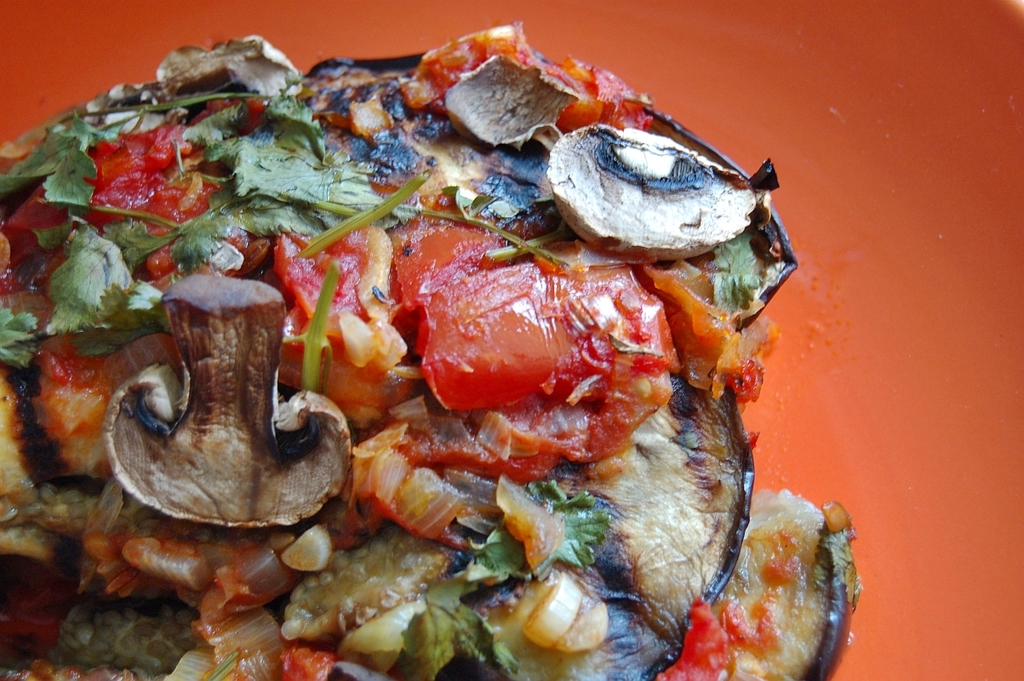Pizza: (0, 6, 869, 680)
